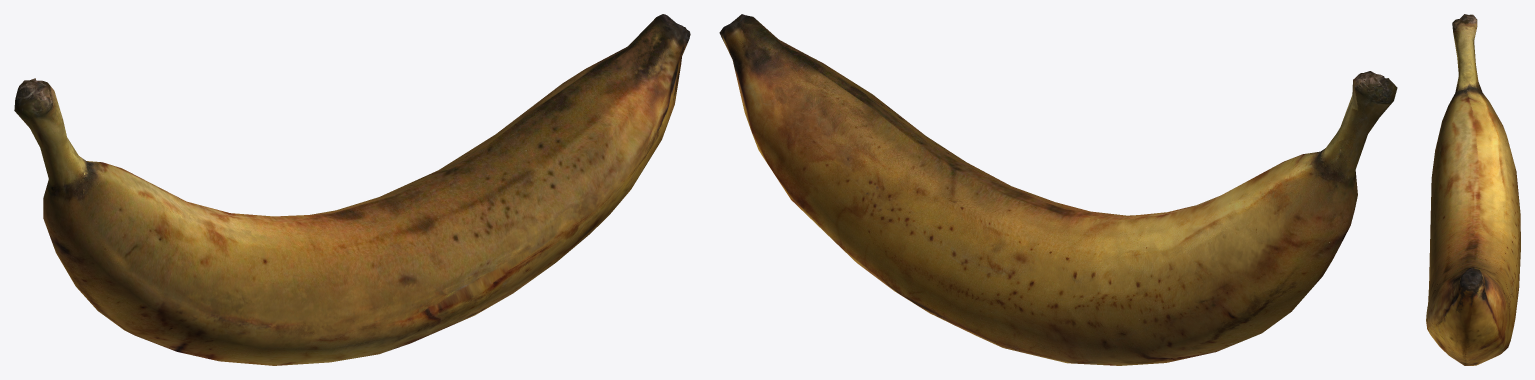
Rendered from Banana.glb.
The picture shows the model from 3 angles, left to right: view 1: azimuth 30°, elevation 25°; view 2: azimuth 150°, elevation 25°; view 3: azimuth 270°, elevation 25°; orthographic projection. The views are drawn at different scales.
Parts seen in each view (by area): view 1: Banana_LowPoly; view 2: Banana_LowPoly; view 3: Banana_LowPoly.
Boxes of the visible parts, x1,y1,x2,y2 form: Banana_LowPoly: (14, 14, 690, 365); Banana_LowPoly: (719, 14, 1397, 365); Banana_LowPoly: (1426, 14, 1520, 365).
Size of the model in its own units: 25.22 by 12.69 by 4.87.
Materials: 1 (1 with a texture image).
